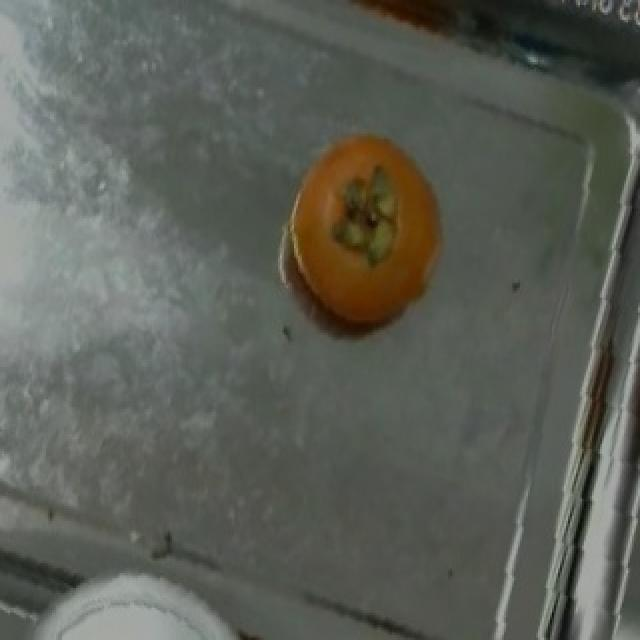Fruit: (264, 114, 468, 350)
